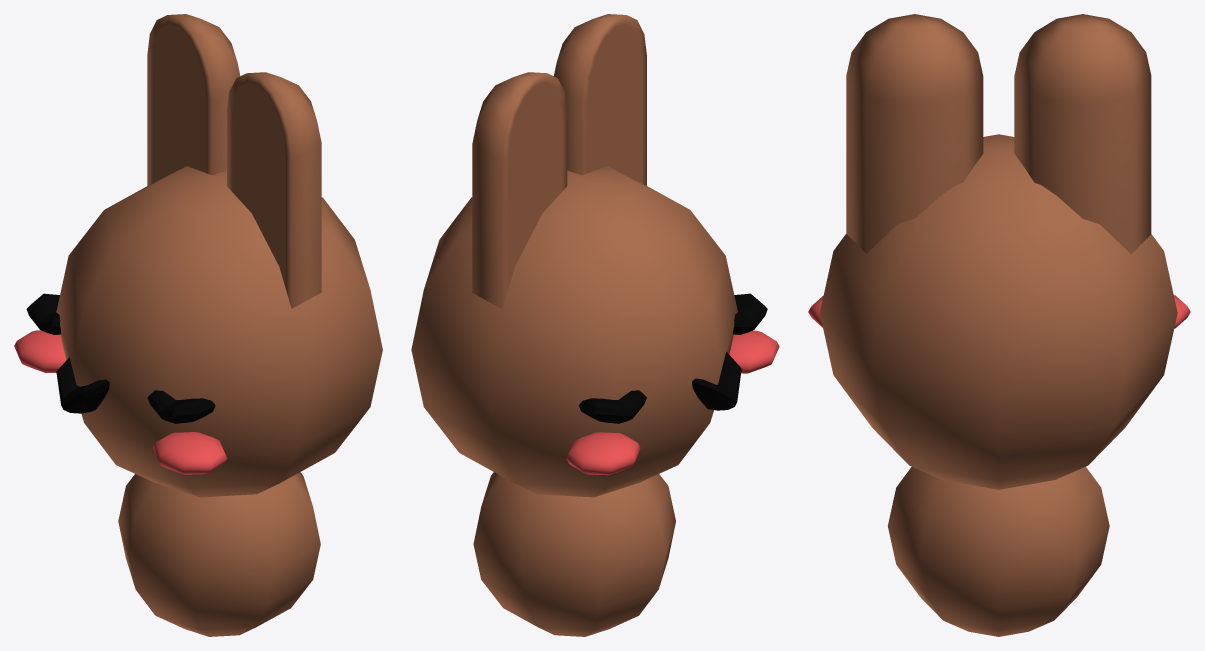
Rendered from PleasedBun_Brown.fbx.
3 renders of one model, left to right at view 1: azimuth 30°, elevation 25°; view 2: azimuth 150°, elevation 25°; view 3: azimuth 270°, elevation 25°, orthographic. The views are drawn at different scales.
Parts seen in each view (by area): view 1: PleasedBun_Brown; view 2: PleasedBun_Brown; view 3: PleasedBun_Brown.
Part boxes in pixels (x1,y1,x2,y2): PleasedBun_Brown: (14, 14, 382, 636); PleasedBun_Brown: (411, 14, 779, 636); PleasedBun_Brown: (808, 14, 1190, 636).
Size of the model in its own units: 106 by 191 by 108.
